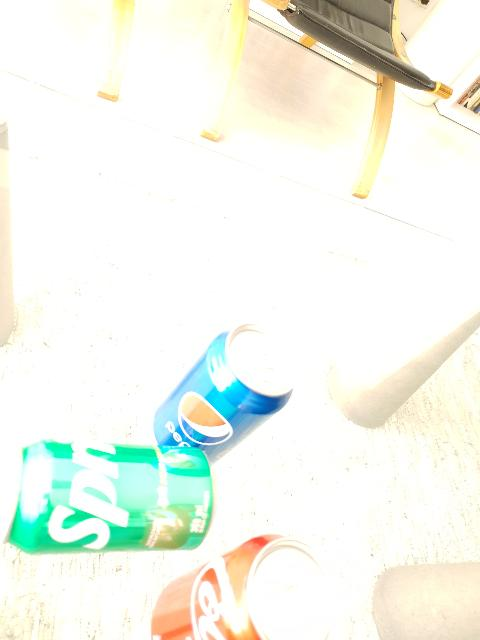coke: (151, 530, 333, 640)
pepsi: (154, 319, 292, 467)
sprite: (7, 436, 213, 556)
